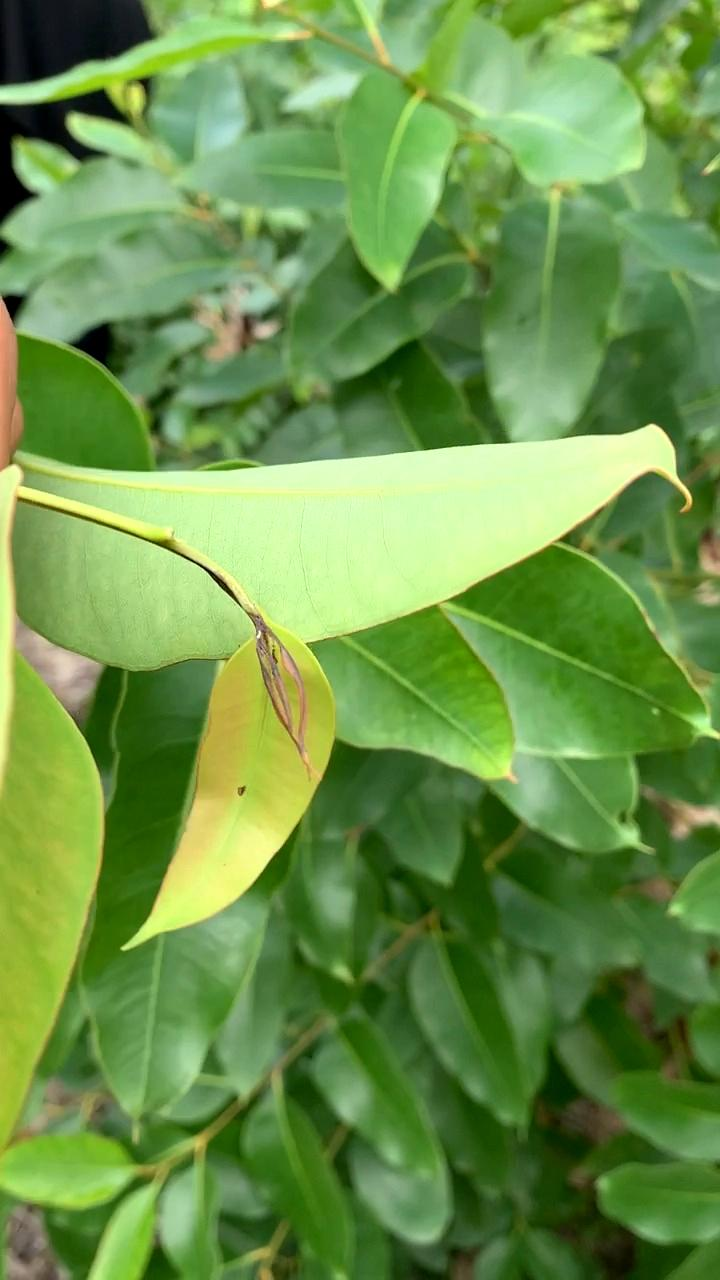Helopeltis-Withered Sprout: (248, 608, 337, 785)
